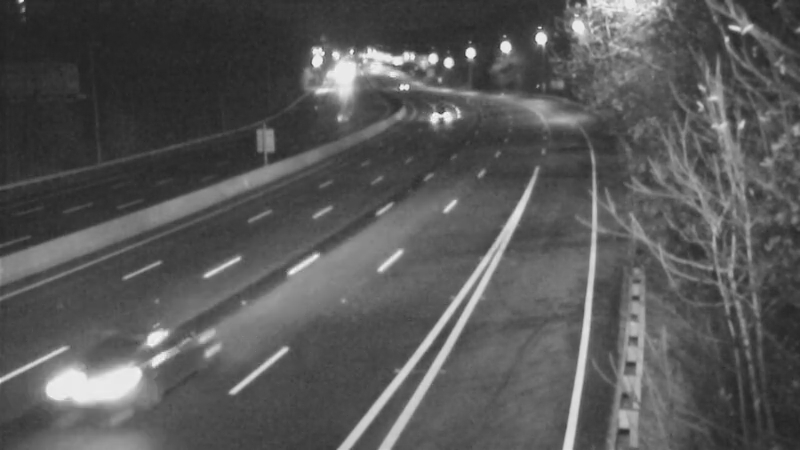vehicle: (70, 309, 180, 419), (380, 62, 430, 112), (412, 89, 462, 139)
